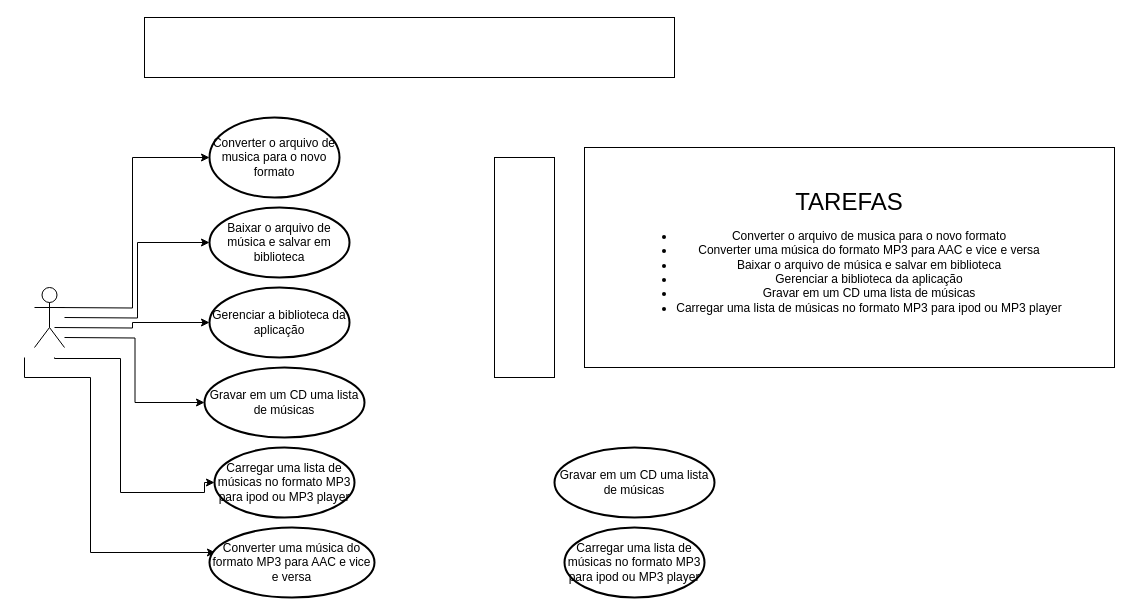
Image size: 1132x616. Some labels were removed from this diagram. Each missing label, with the centre of its shape:
APP DE MÚSICA POR ARTUR VALENTE: the point at 409,47
LOGICA: the point at 524,267
USUÁRIO: the point at 49,317
